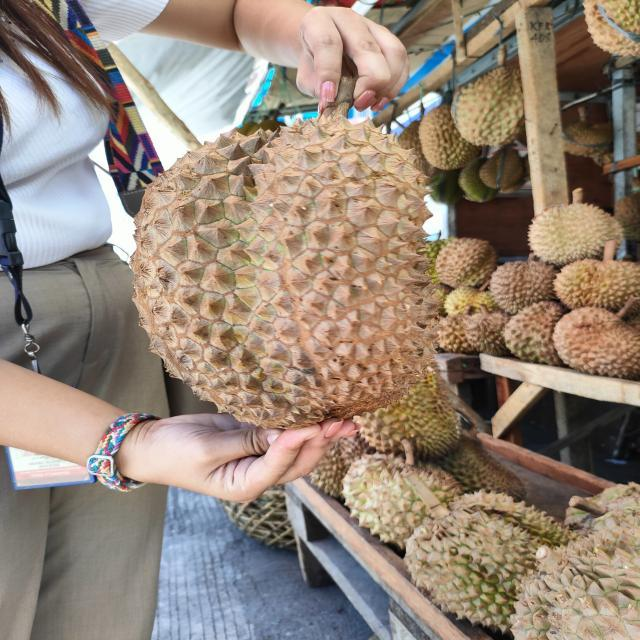mature: (129, 112, 439, 434)
